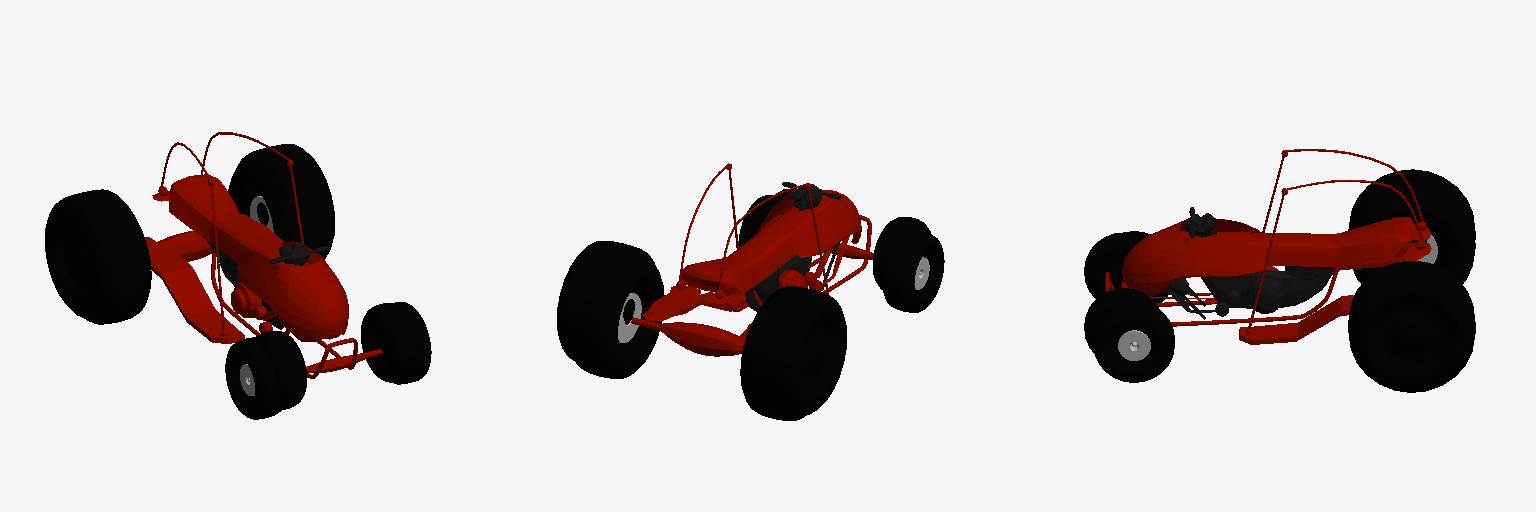
Rendered from buggy2.1.obj.
3 renders of one model, left to right at view 1: azimuth 30°, elevation 25°; view 2: azimuth 150°, elevation 25°; view 3: azimuth 270°, elevation 25°, orthographic.
Visible parts, largest first — view 1: atv.003_Cylinder.002, atv_Cylinder.007, rims_Cylinder.003, atv.002_Cylinder.001; view 2: atv.003_Cylinder.002, atv_Cylinder.007, rims_Cylinder.003, atv.002_Cylinder.001; view 3: atv_Cylinder.007, atv.003_Cylinder.002, rims_Cylinder.003, atv.002_Cylinder.001.
Part boxes in pixels (x1,y1,x2,y2): atv.003_Cylinder.002: (45,144,421,409); atv_Cylinder.007: (145,132,383,373); rims_Cylinder.003: (86,163,431,419); atv.002_Cylinder.001: (211,250,357,378); atv.003_Cylinder.002: (557,189,930,415); atv_Cylinder.007: (631,163,873,356); rims_Cylinder.003: (570,195,944,420); atv.002_Cylinder.001: (725,215,871,311); atv_Cylinder.007: (1121,149,1431,344); atv.003_Cylinder.002: (1084,169,1475,390); rims_Cylinder.003: (1093,203,1475,392); atv.002_Cylinder.001: (1105,267,1339,326).
Size of the model in its own units: 13.48 by 9.62 by 19.1.